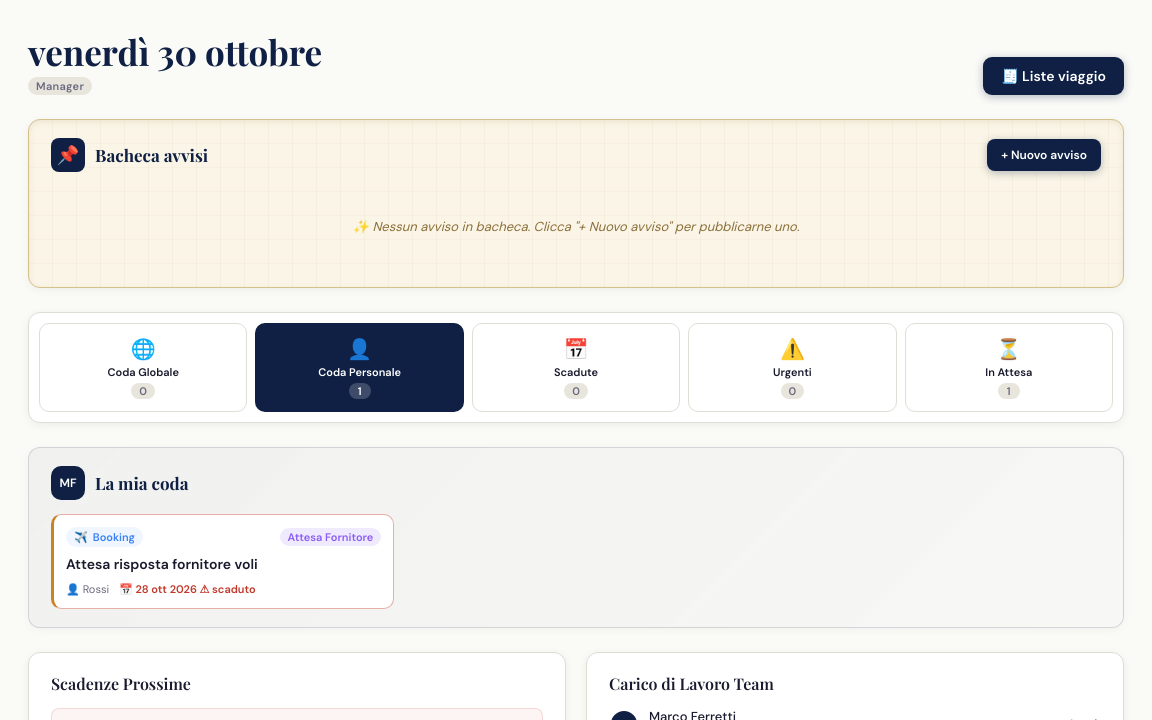
Dashboard — task in attesa scaduta › non compare nella coda Scadute
Click the text "Scadute".
click(576, 373)  # box [554,366,598,379]
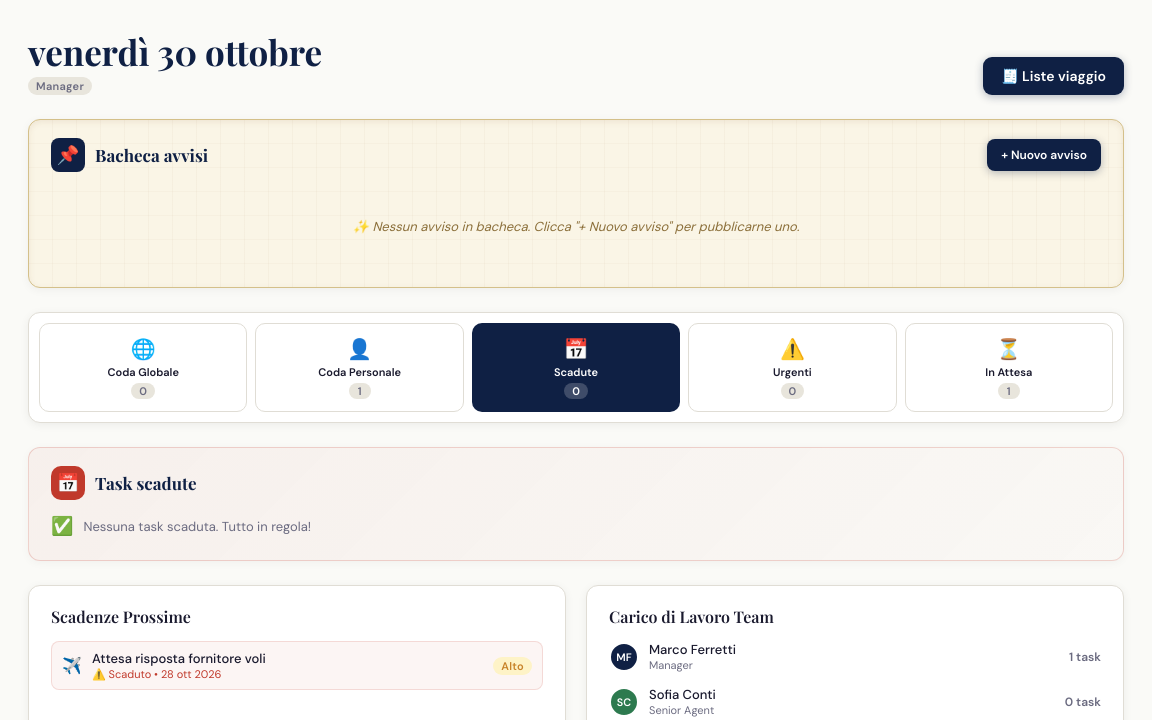
Now the text "✅ Nessuna task scaduta. Tutto in regola!" is shown, box [51,514,311,538]
Now the text "Attesa risposta fornitore voli" is shown once, box [92,650,266,667]
